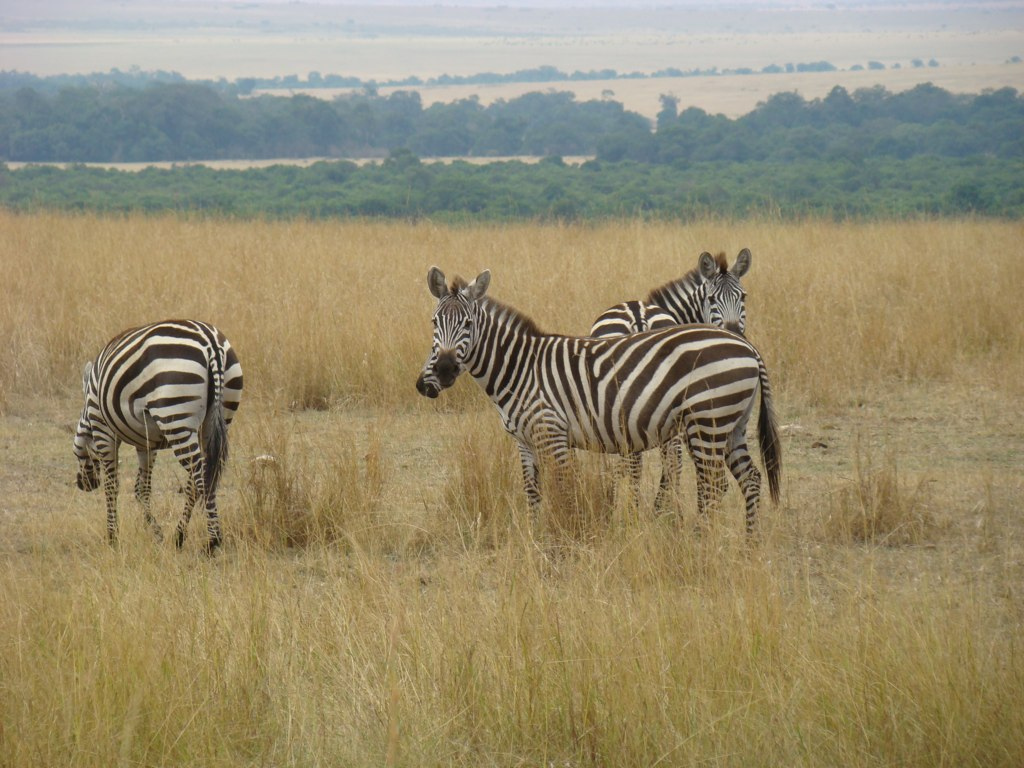zebra: (414, 261, 784, 547), (70, 314, 246, 554)
